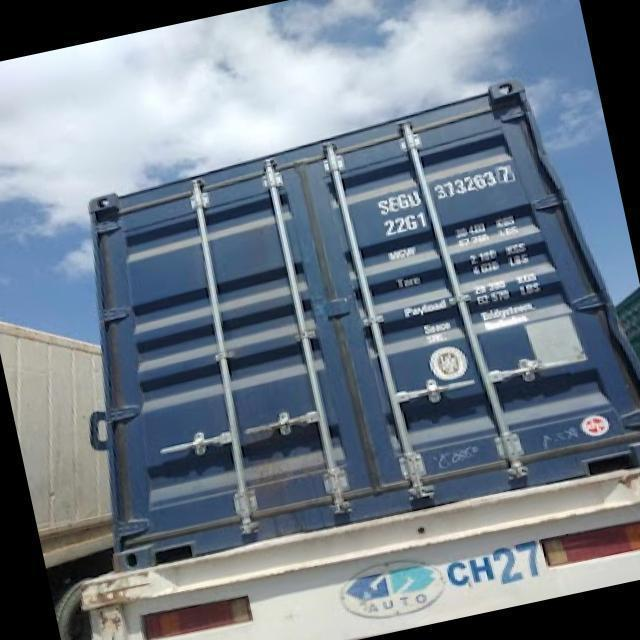ISO: (384, 209, 432, 234)
container_number: (376, 159, 520, 214)
